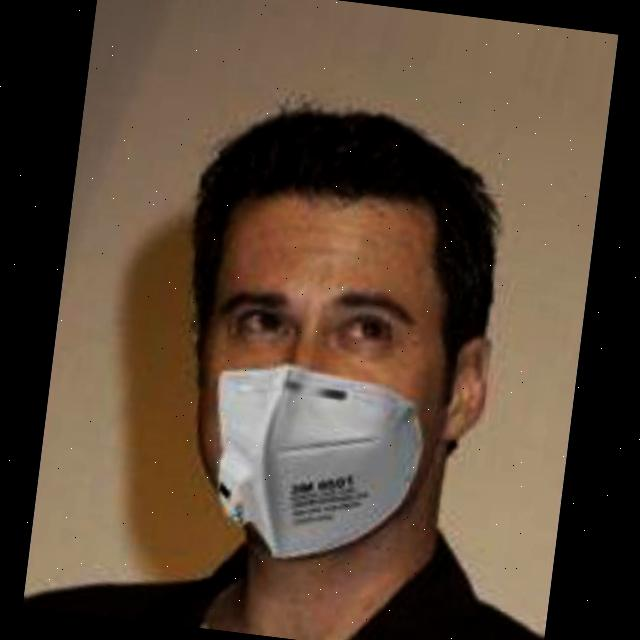suspicion: (130, 111, 550, 578)
